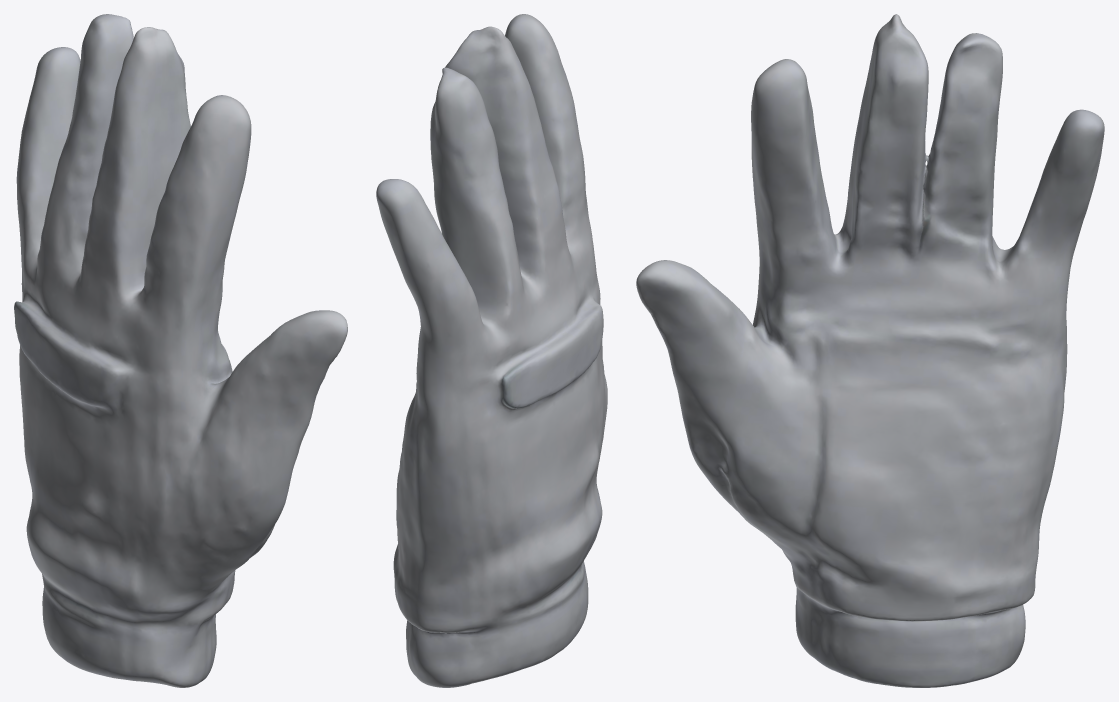
The model's file is a70fd9255056_white_soldier_glove.fbx.
The picture shows the model from 3 angles, left to right: view 1: azimuth 30°, elevation 25°; view 2: azimuth 150°, elevation 25°; view 3: azimuth 270°, elevation 25°; orthographic projection. The views are drawn at different scales.
Parts seen in each view (by area): view 1: high_poly; view 2: high_poly; view 3: high_poly.
Boxes of the visible parts, x1,y1,x2,y2 form: high_poly: [14, 14, 347, 687]; high_poly: [376, 14, 607, 687]; high_poly: [636, 14, 1104, 687].
Size of the model in its own units: 28.38 by 100 by 65.85.
